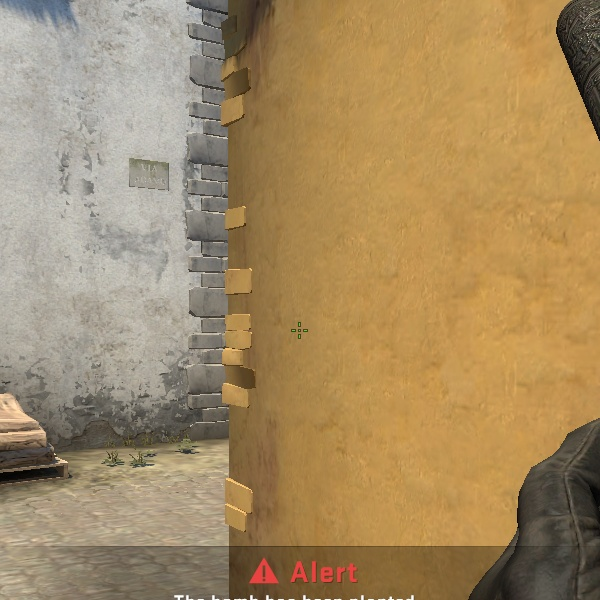ct_body: (93, 0, 599, 592)
